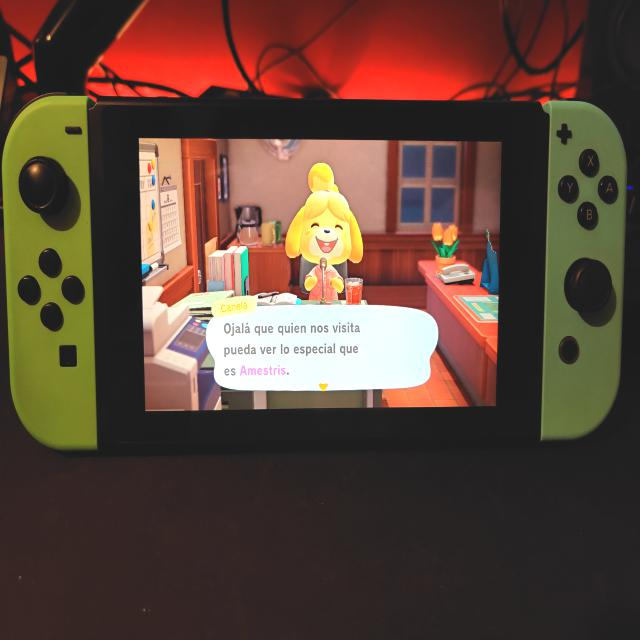text_bubble: (207, 294, 441, 394)
